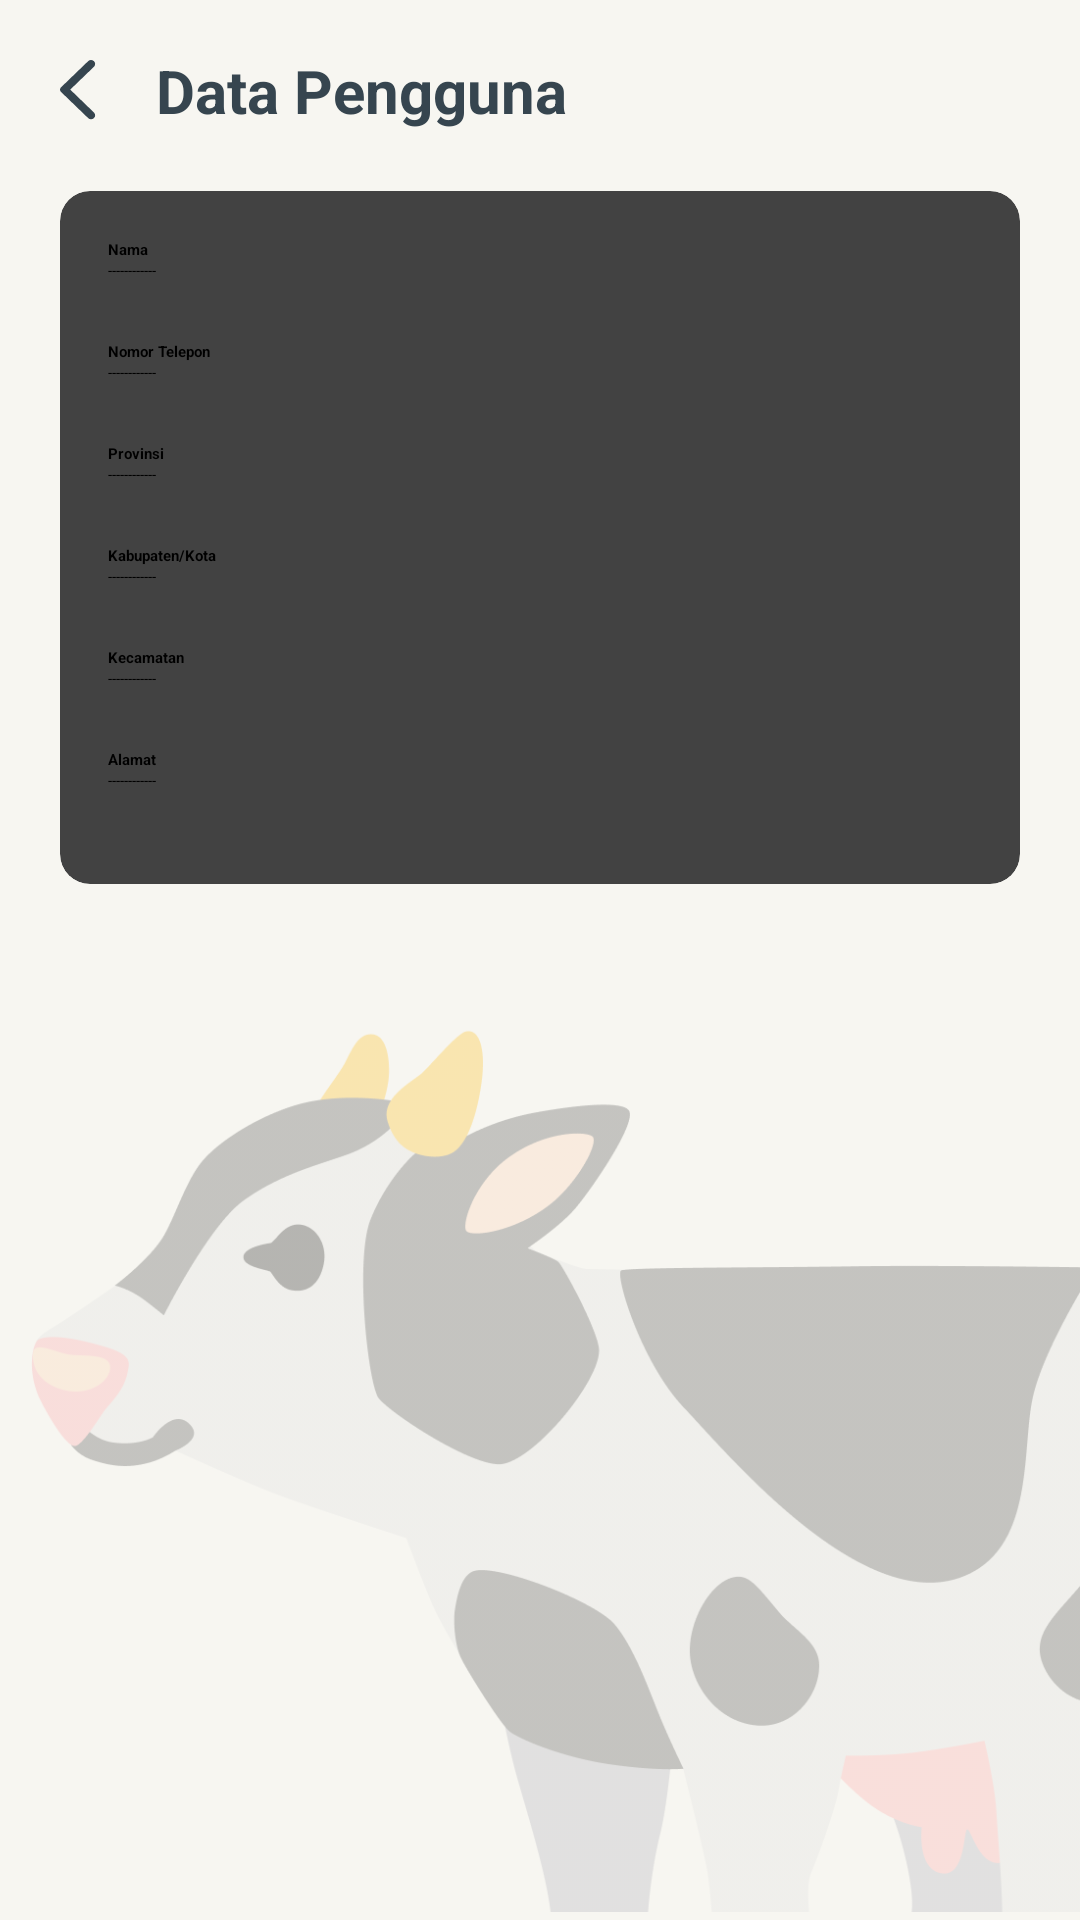

Point at icon controls on the screen. Image size 1080 x 1920, points as [x,y].
back: [77,90]
